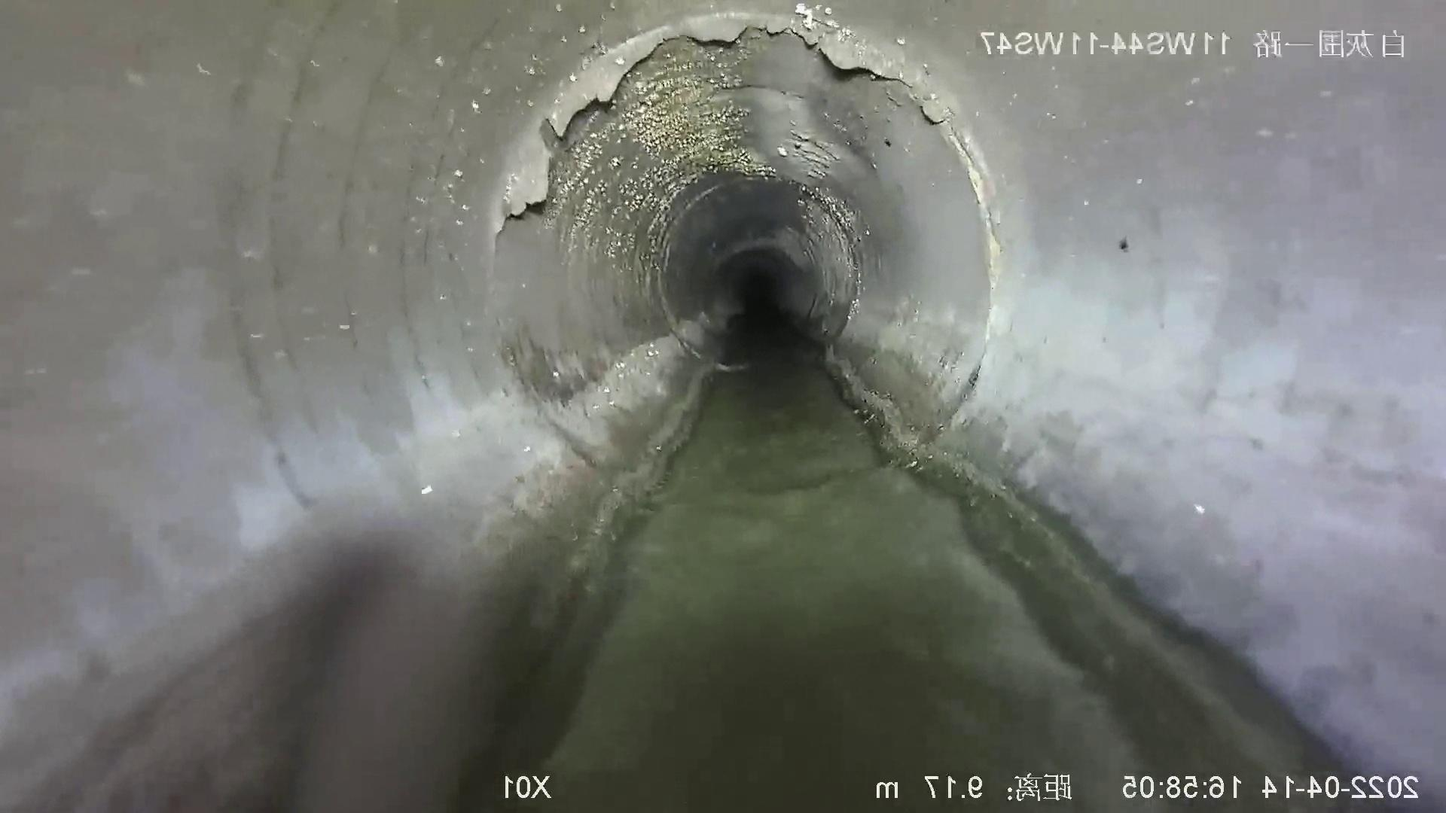JKCL: (473, 7, 972, 267)
